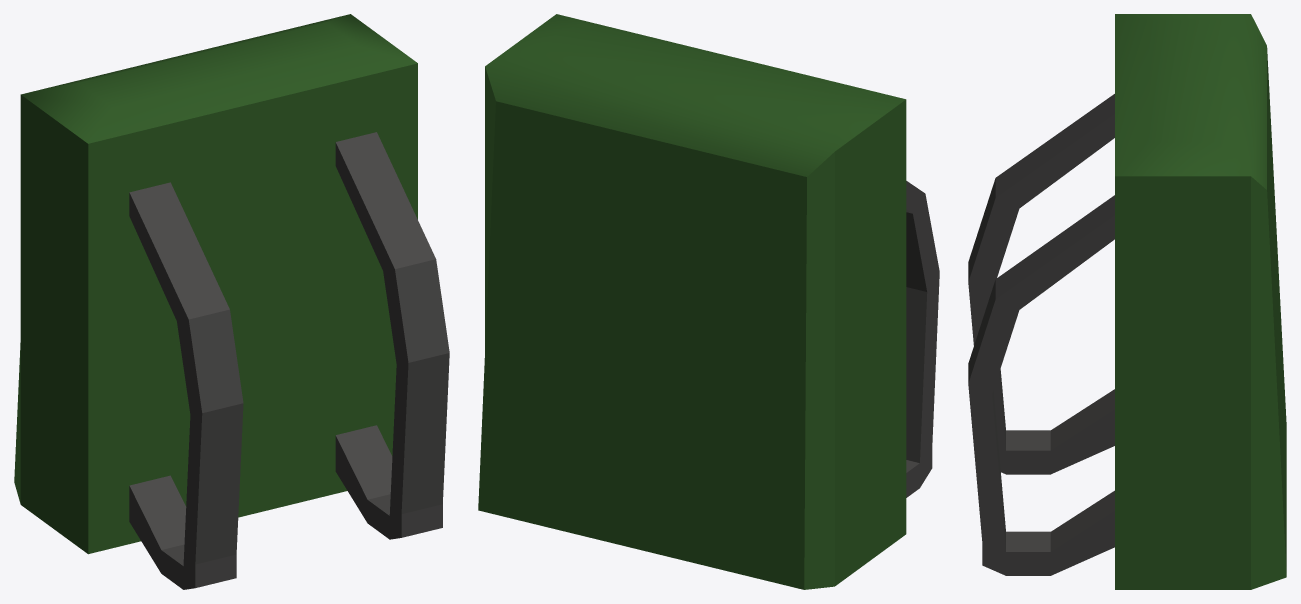
Rendered from bag.fbx.
The picture shows the model from 3 angles, left to right: view 1: azimuth 30°, elevation 25°; view 2: azimuth 150°, elevation 25°; view 3: azimuth 270°, elevation 25°; orthographic projection. The views are drawn at different scales.
Parts seen in each view (by area): view 1: bag; view 2: bag; view 3: bag.
Boxes of the visible parts, box(x1,y1,x2,y2) form: bag: box(14, 14, 449, 589); bag: box(478, 14, 939, 589); bag: box(968, 14, 1286, 589).
Bounding box in the file's own units: 35.8 × 44.61 × 29.68.
